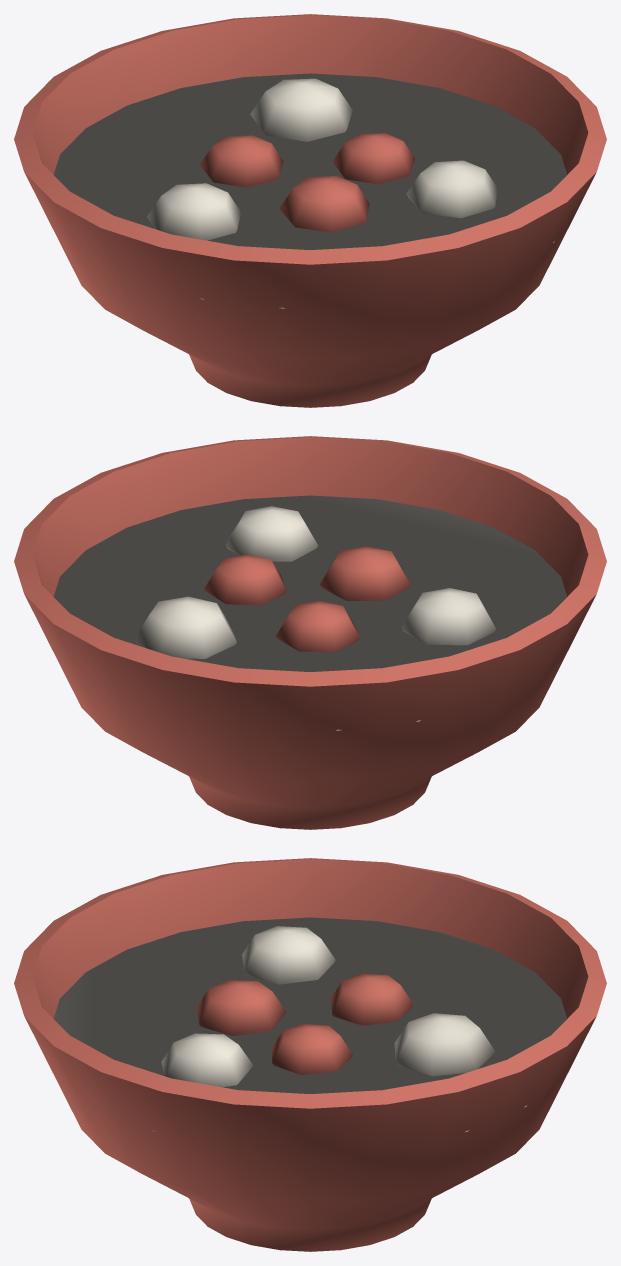
The model's file is dish_stew.glb.
The picture shows the model from 3 angles, top to bottom: view 1: azimuth 30°, elevation 25°; view 2: azimuth 150°, elevation 25°; view 3: azimuth 270°, elevation 25°; orthographic projection.
Visible parts, largest first — view 1: PART; view 2: PART; view 3: PART.
Boxes of the visible parts, x1,y1,x2,y2 form: PART: (14,14,606,407); PART: (14,436,606,829); PART: (14,858,606,1251).
Bounding box in the file's own units: 0.16 × 0.067 × 0.16.
